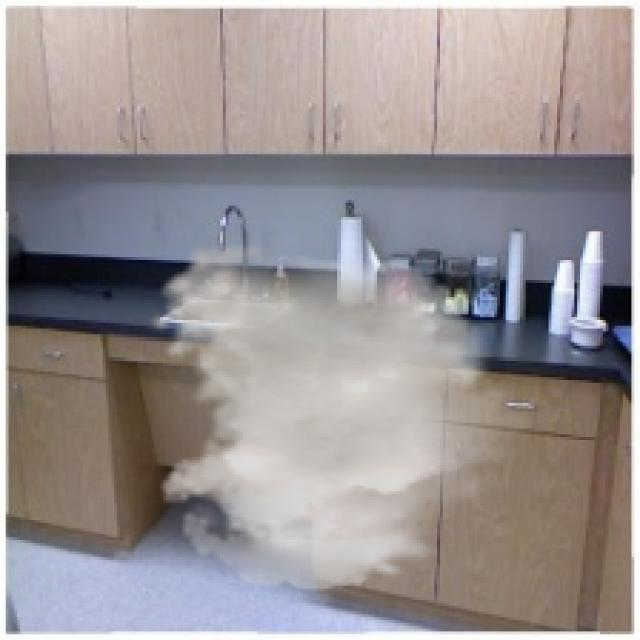Smoke: (148, 243, 540, 592)
